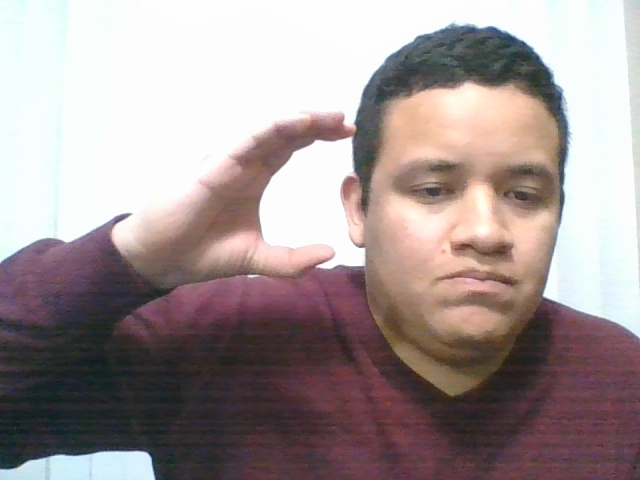Cousin: (119, 93, 377, 309)
